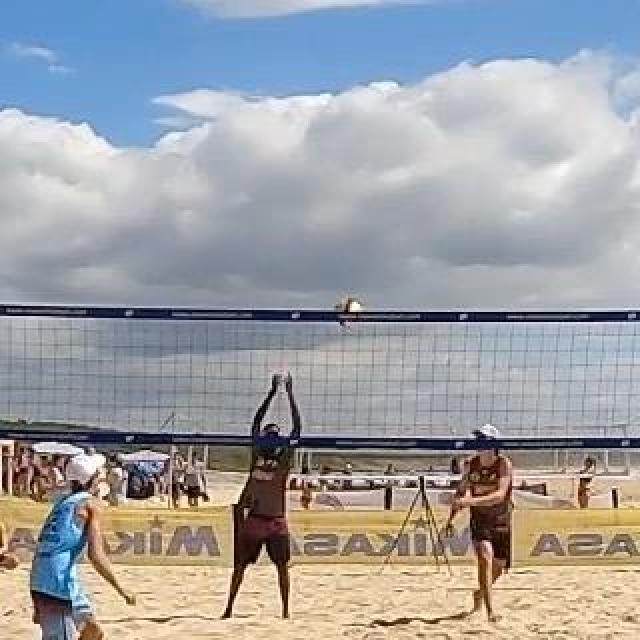volleyball: (337, 297, 365, 327)
